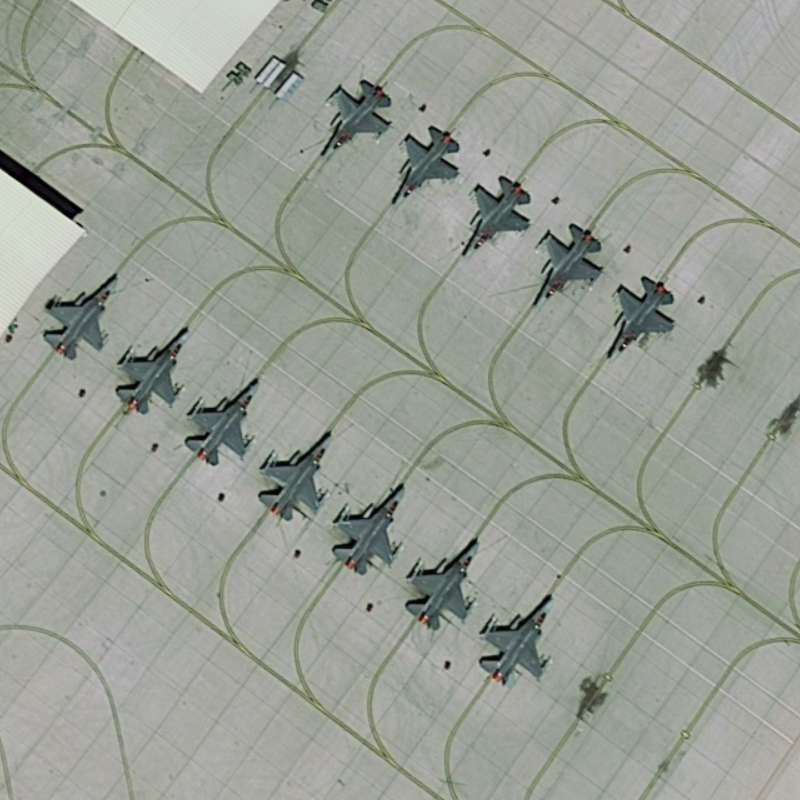A5: (251, 426, 338, 533), (399, 534, 487, 636), (326, 478, 414, 577), (523, 214, 609, 315), (179, 367, 263, 468), (312, 70, 398, 164), (37, 265, 121, 361), (477, 595, 560, 689), (114, 328, 199, 418), (457, 170, 536, 265), (604, 272, 680, 365), (392, 122, 463, 212)
